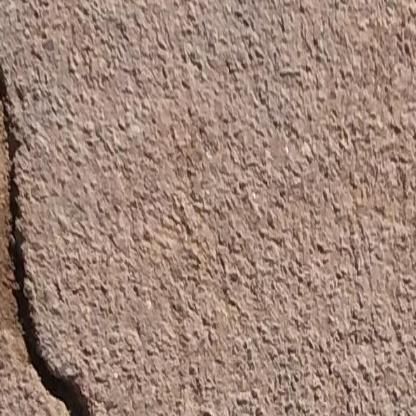Cracks: (0, 59, 94, 416)
